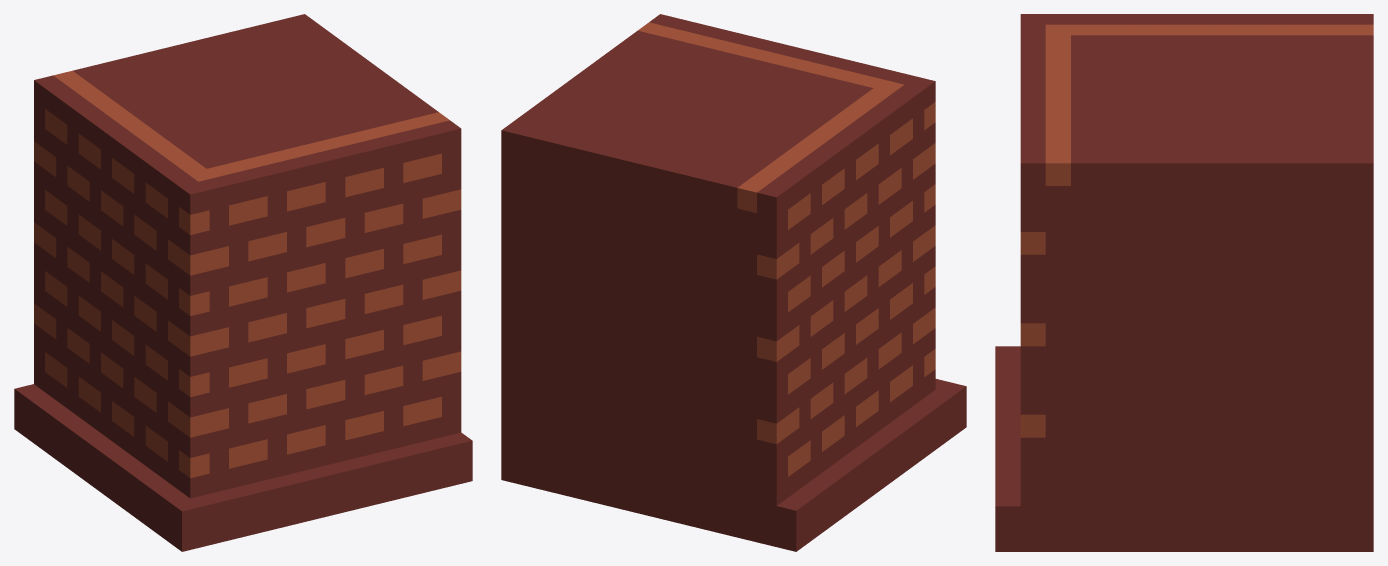
Rendered from dungeon_b_a_outer_wall_corner_a.obj.
3 renders of one model, left to right at view 1: azimuth 30°, elevation 25°; view 2: azimuth 150°, elevation 25°; view 3: azimuth 270°, elevation 25°, orthographic. The views are drawn at different scales.
Size of the model in its own units: 1.5 by 1.7 by 1.5.
Materials: 1 (1 with a texture image).
